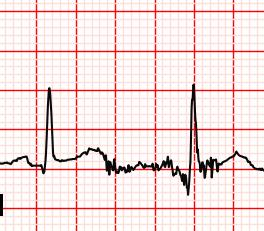Pathological Q Wave: (174, 162, 197, 198)
